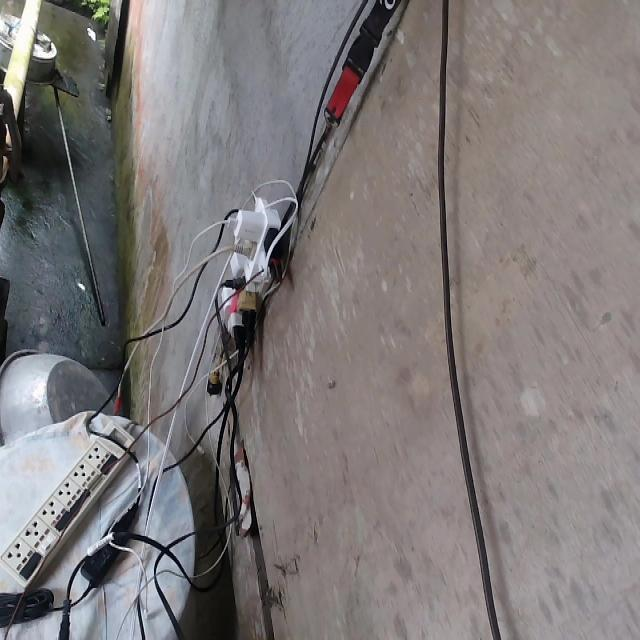-: (212, 177, 298, 356)
